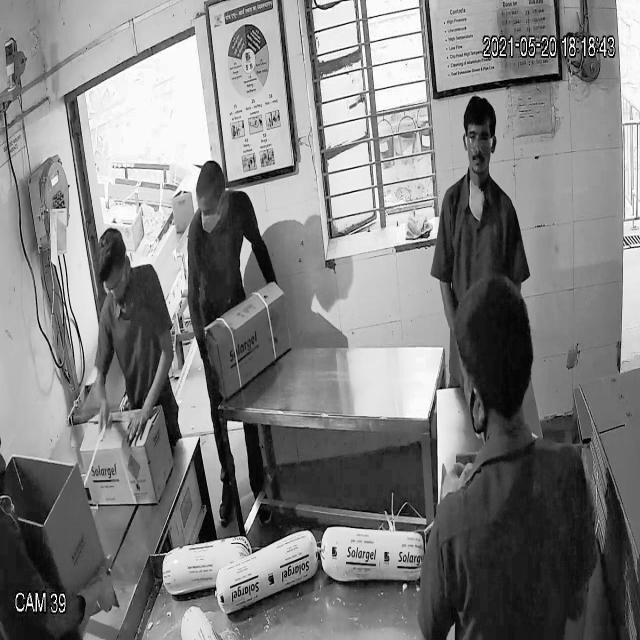glasses: (460, 126, 498, 152)
